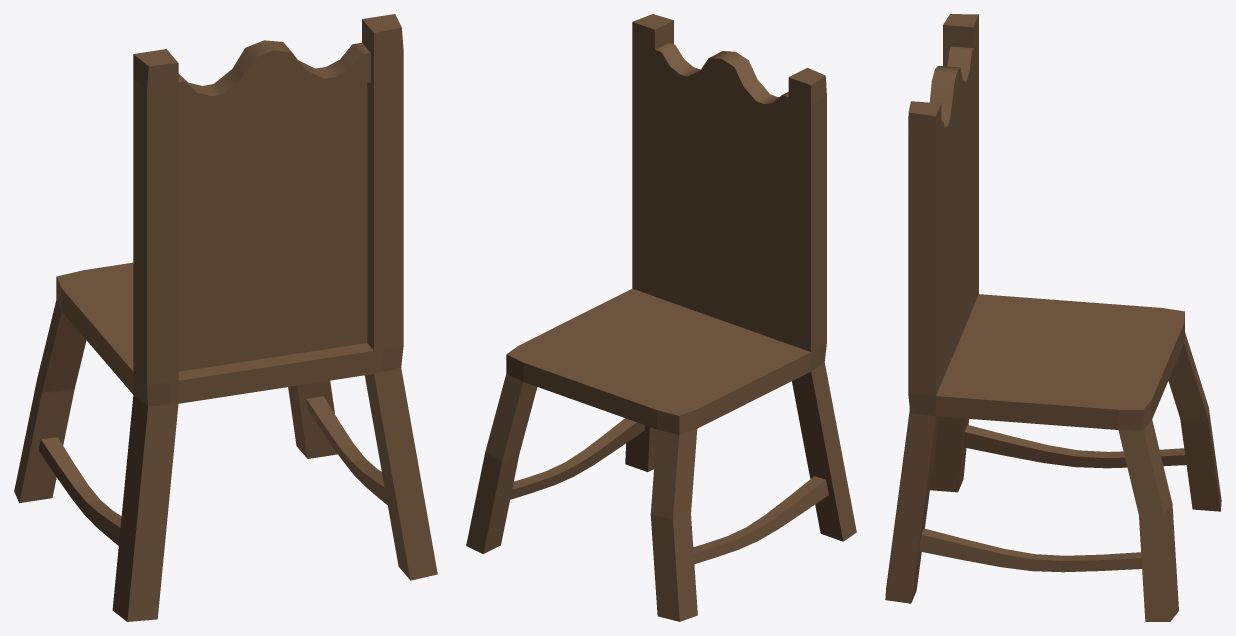
The model's file is Silla.fbx.
3 views of the same model, side by side, from view 1: azimuth 30°, elevation 25°; view 2: azimuth 150°, elevation 25°; view 3: azimuth 270°, elevation 25° (orthographic). The views are drawn at different scales.
Parts seen in each view (by area): view 1: Silla; view 2: Silla; view 3: Silla.
Part boxes in pixels (left/top/right/bottom): Silla: left=14, top=14, right=437, bottom=621; Silla: left=466, top=14, right=856, bottom=621; Silla: left=885, top=14, right=1221, bottom=621.
Bounding box in the file's own units: 67.04 × 105 × 66.7.
